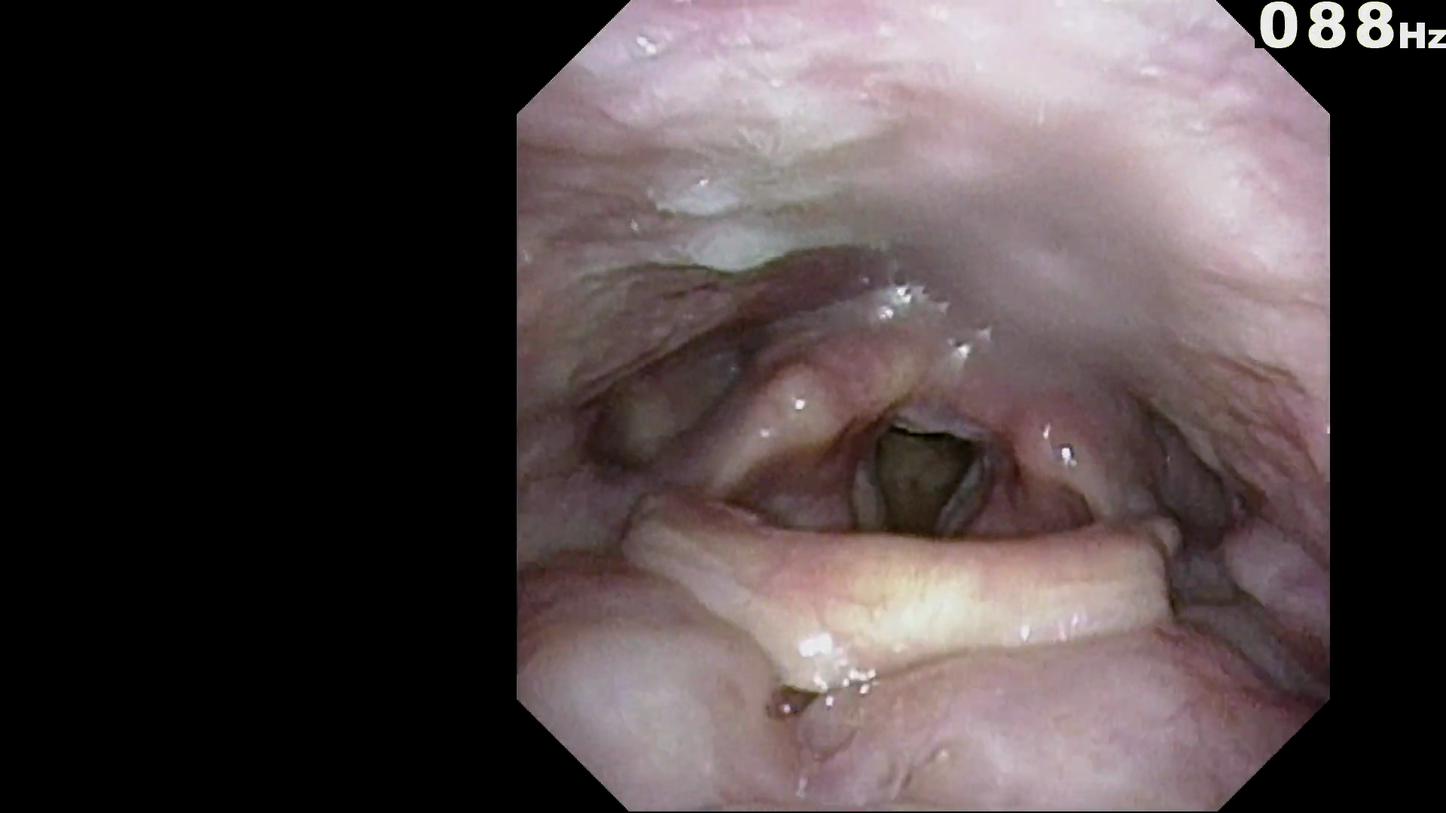epiglottis: (623, 521, 1182, 702)
trachea: (864, 423, 986, 556)
